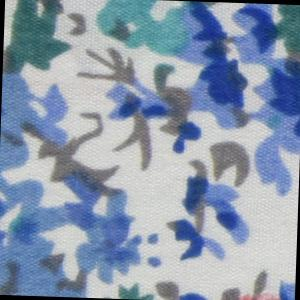Stain: (220, 283, 296, 300)
